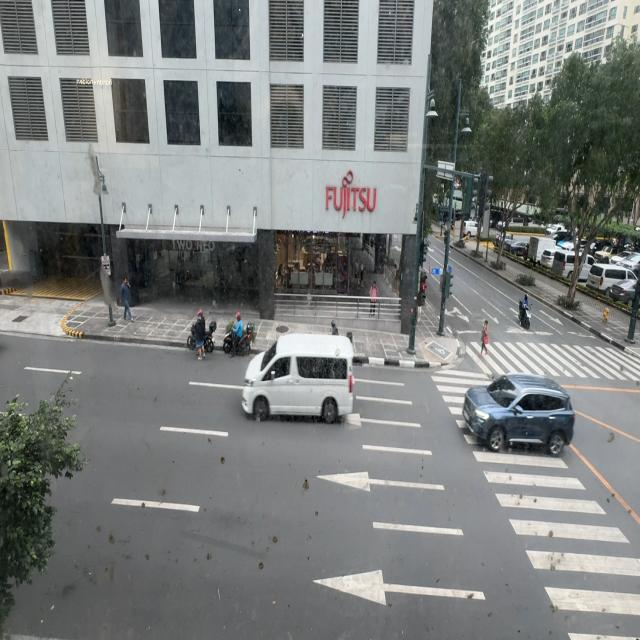crossing: (480, 321, 489, 358)
pedestrain: (119, 278, 134, 322)
